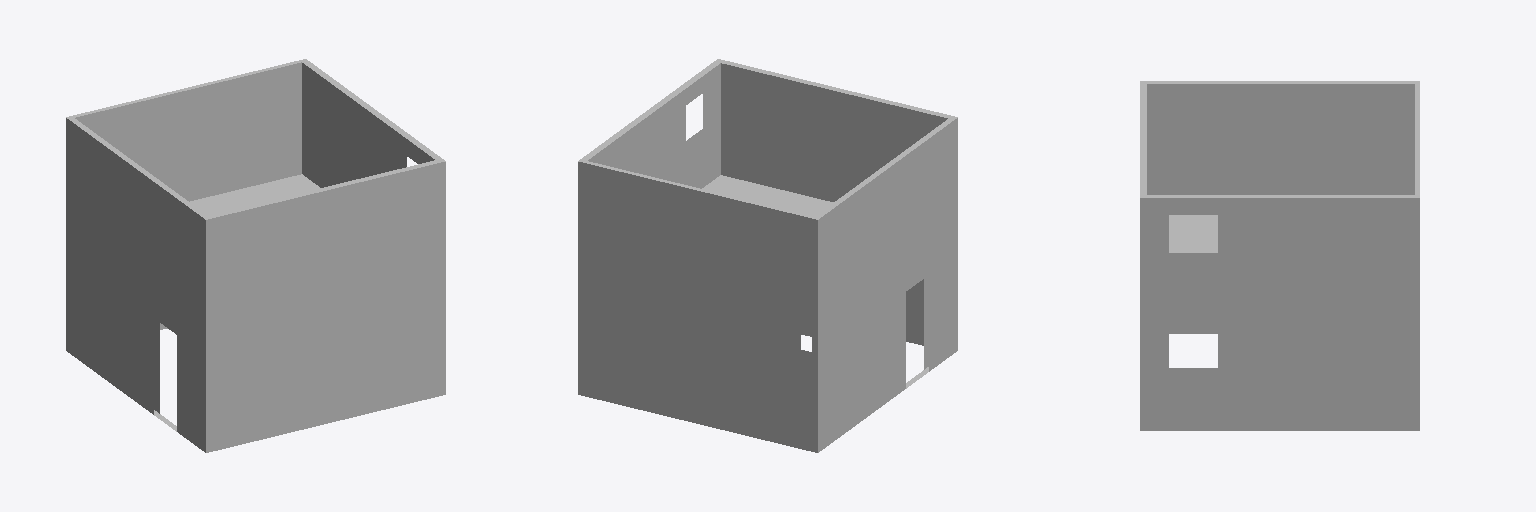
Rendered from house 2.obj.
The picture shows the model from 3 angles: view 1: azimuth 30°, elevation 25°; view 2: azimuth 150°, elevation 25°; view 3: azimuth 270°, elevation 25°; orthographic projection.
Visible parts, largest first — view 1: pCube1; view 2: pCube1; view 3: pCube1.
Boxes of the visible parts, x1=… form: pCube1: x1=66, y1=59, x2=445, y2=452; pCube1: x1=578, y1=59, x2=957, y2=452; pCube1: x1=1140, y1=81, x2=1419, y2=430.
Size of the model in its own units: 233 by 217 by 236.